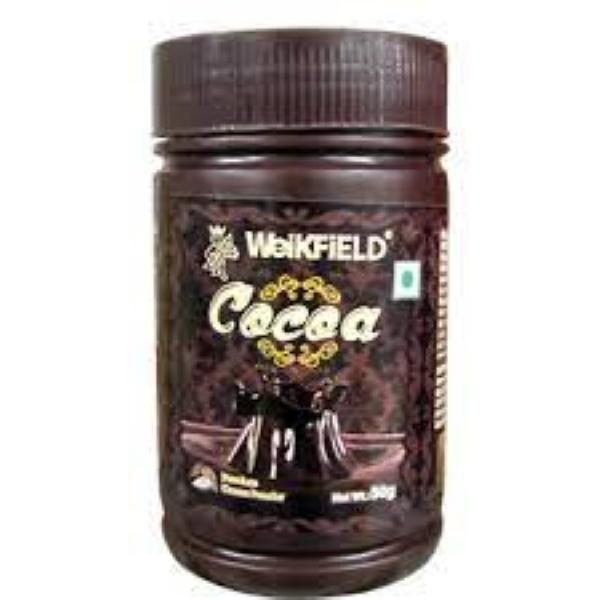Cocoa Powder: (135, 14, 475, 594)
